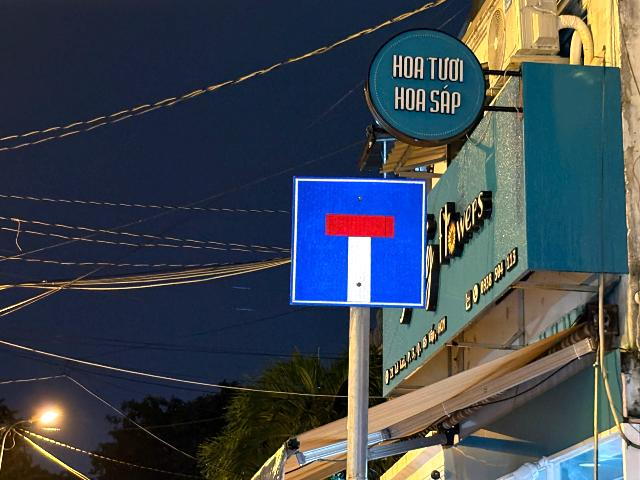duong-cut: (291, 176, 427, 309)
